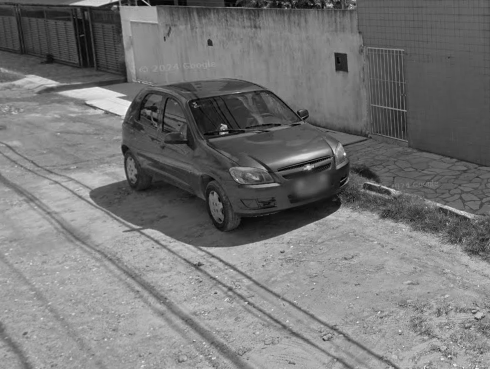car: (121, 79, 350, 232)
